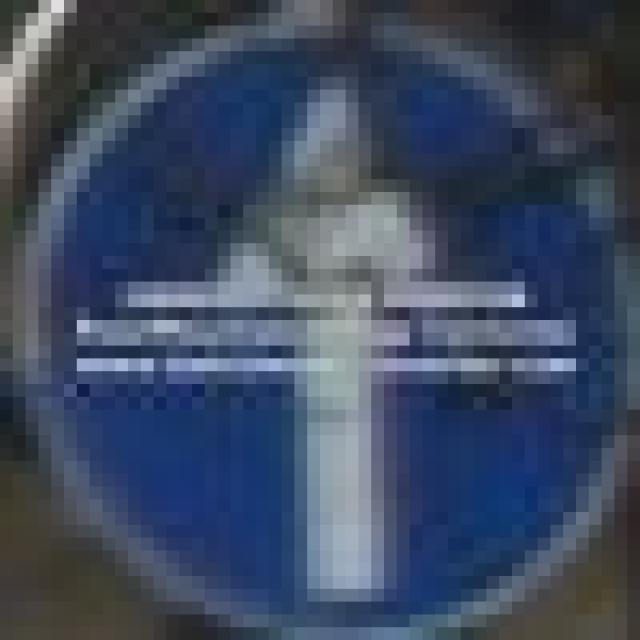COMPULSORY_AHEAD: (46, 39, 622, 640)
